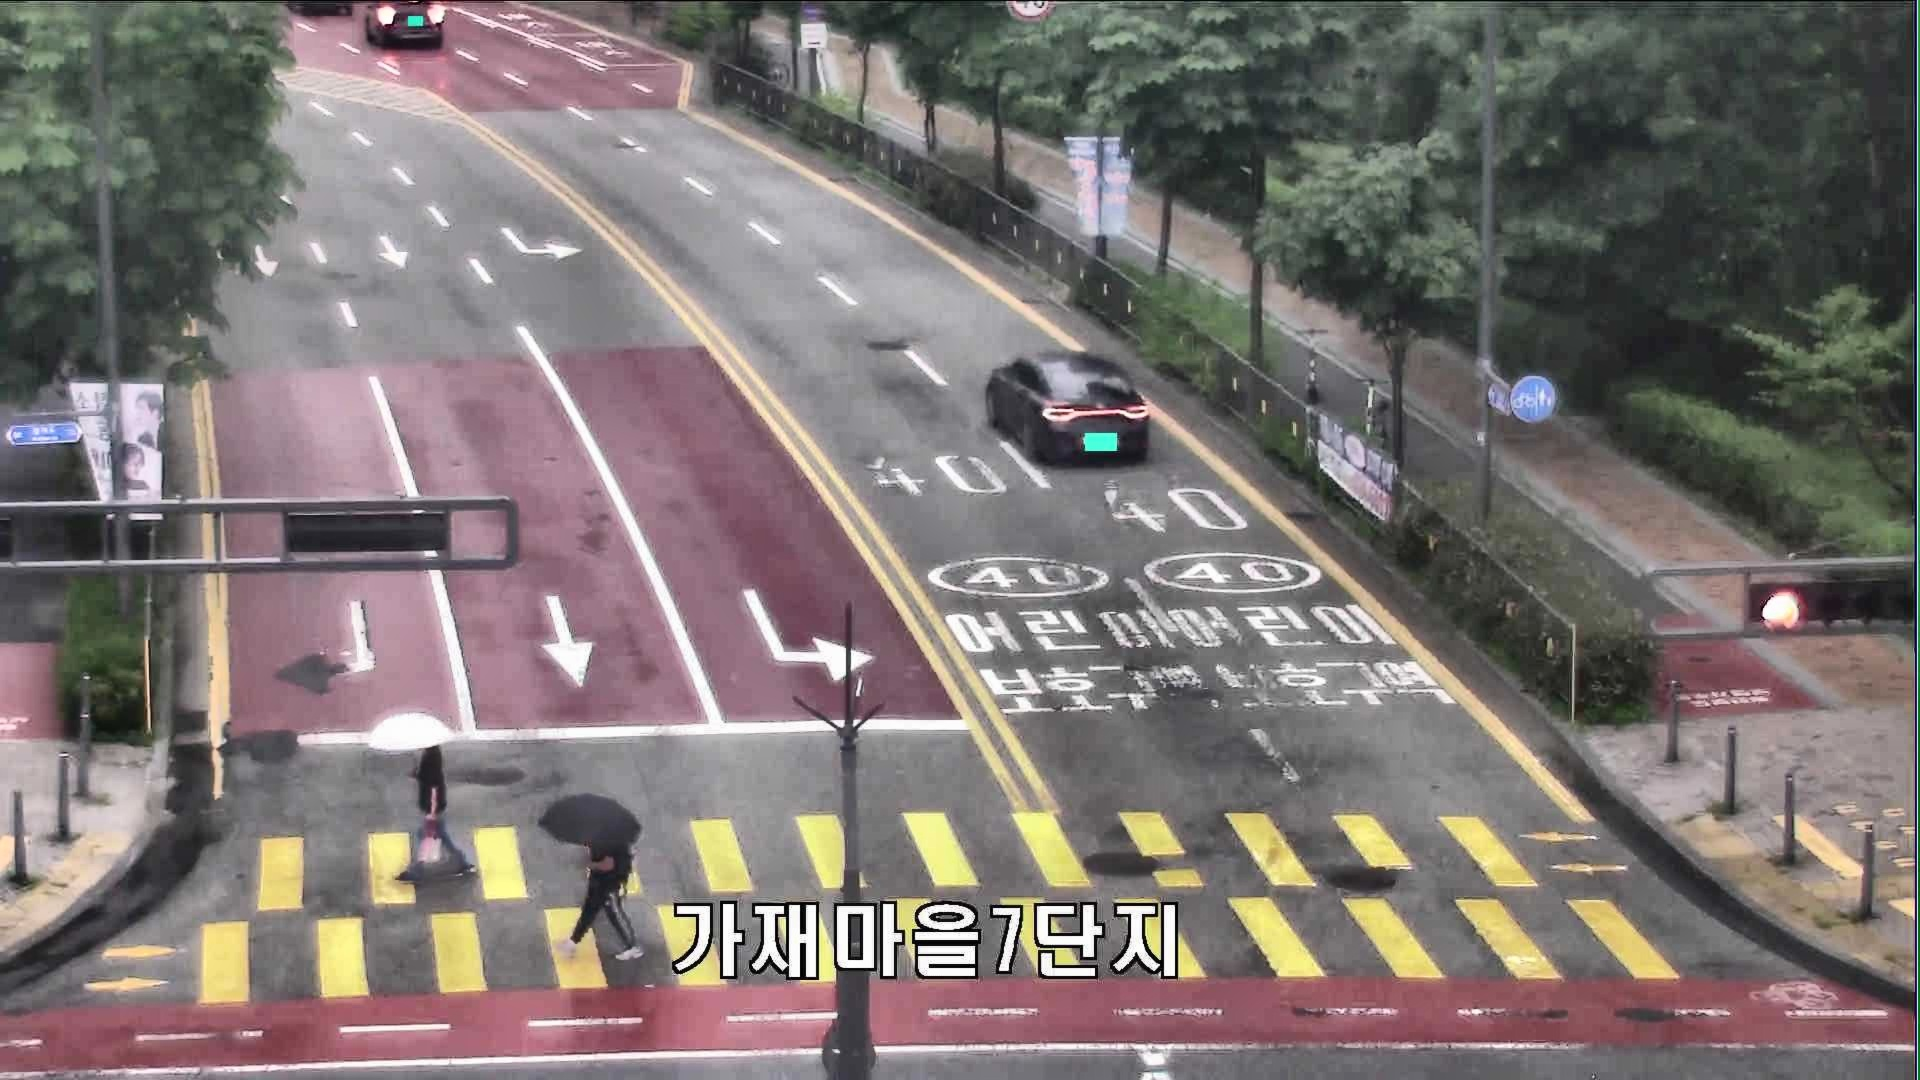um_crosswalk: (534, 789, 645, 964), (369, 709, 476, 881)
